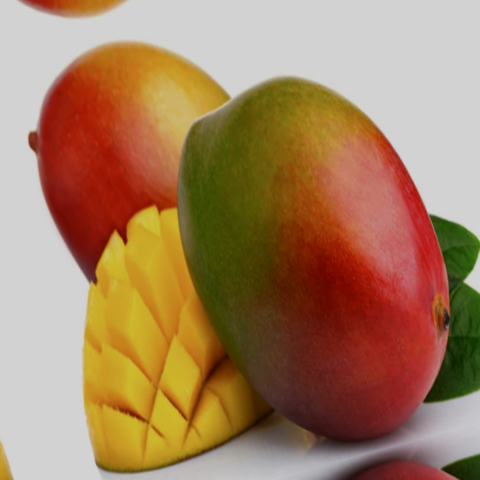mango: (132, 33, 480, 480), (0, 0, 317, 362)
